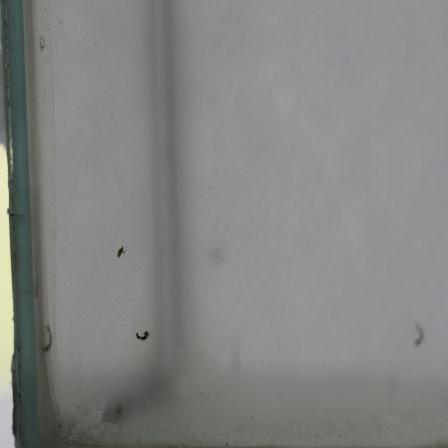Jentik-Nyamuk: (112, 240, 131, 264), (130, 326, 152, 346)
